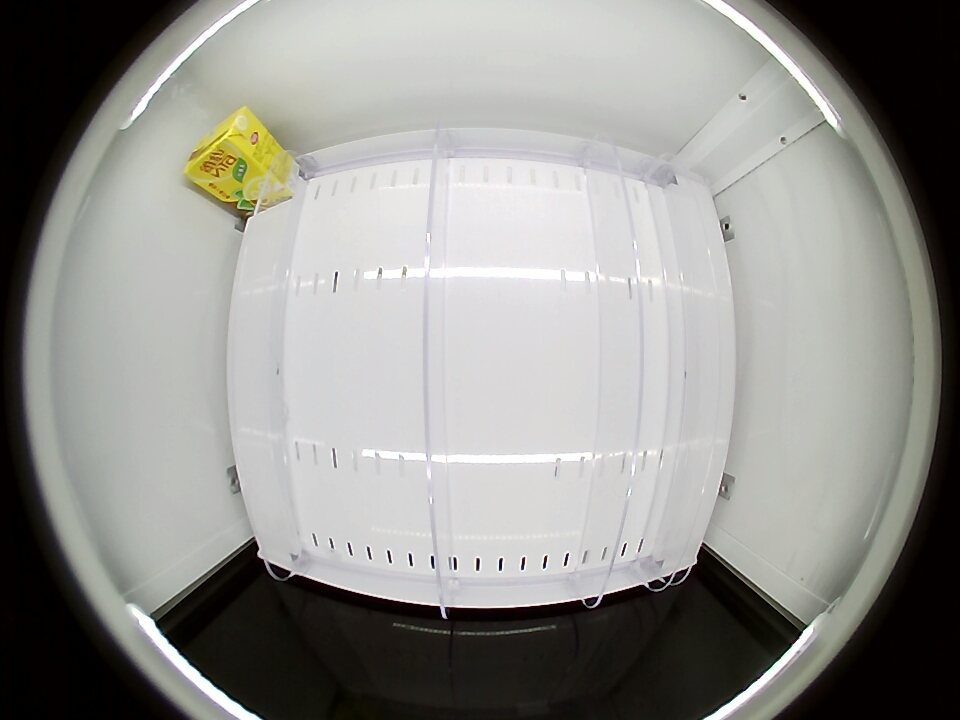weitaningmeng: (183, 107, 266, 194)
